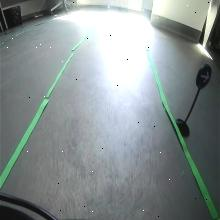right: (196, 64, 211, 89)
